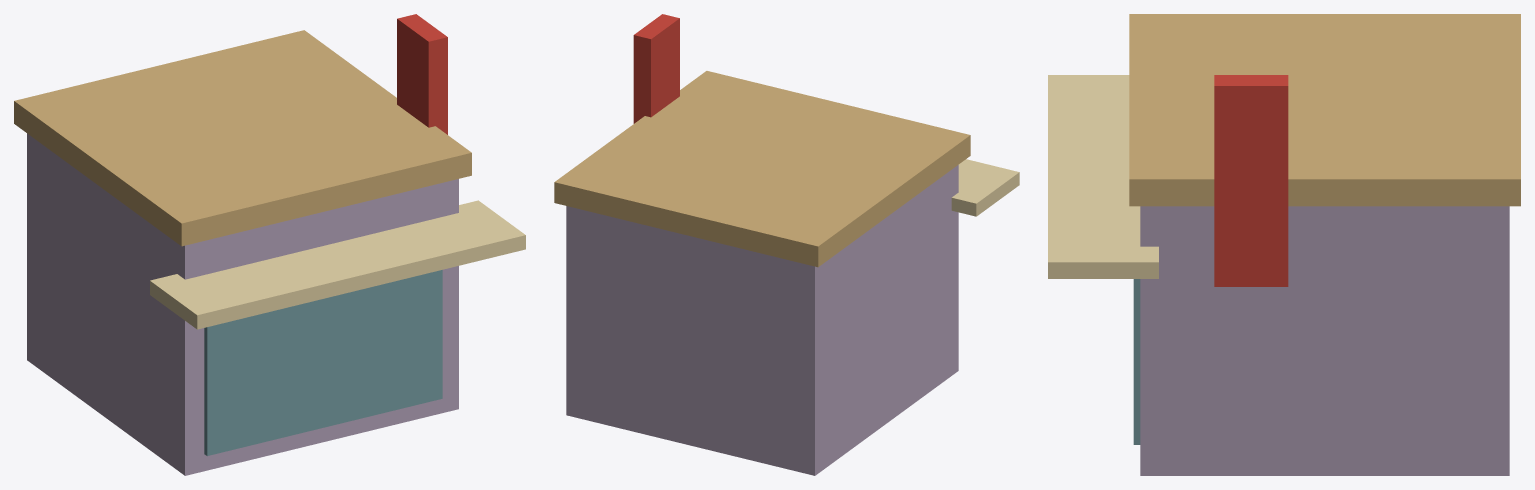
3 views of the same model, side by side, from view 1: azimuth 30°, elevation 25°; view 2: azimuth 150°, elevation 25°; view 3: azimuth 270°, elevation 25° (orthographic). The views are drawn at different scales.
Visible parts, largest first — view 1: RC-013 Blade sign shop batched; view 2: RC-013 Blade sign shop batched; view 3: RC-013 Blade sign shop batched.
Part boxes in pixels (<box>): RC-013 Blade sign shop batched: <box>14,14,525,475</box>; RC-013 Blade sign shop batched: <box>554,14,1019,475</box>; RC-013 Blade sign shop batched: <box>1048,14,1520,475</box>.
Size of the model in its own units: 6 by 6 by 6.4.
